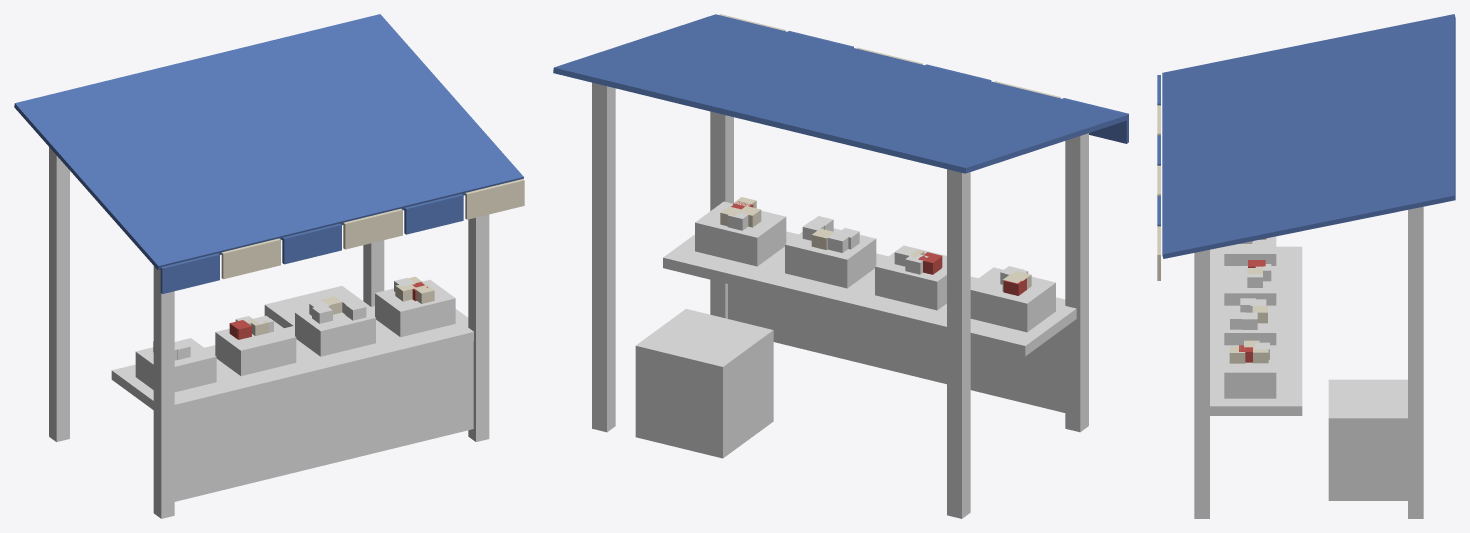
The model's file is market_stall_blue.glb.
3 views of the same model, side by side, from view 1: azimuth 30°, elevation 25°; view 2: azimuth 150°, elevation 25°; view 3: azimuth 270°, elevation 25° (orthographic). The views are drawn at different scales.
Visible parts, largest first — view 1: market_stall_blue; view 2: market_stall_blue; view 3: market_stall_blue.
Part boxes in pixels (x1,y1,x2,y2): market_stall_blue: (14, 14, 524, 518); market_stall_blue: (553, 14, 1128, 518); market_stall_blue: (1157, 14, 1455, 518).
Bounding box in the file's own units: 3.3 × 2.82 × 2.29.
